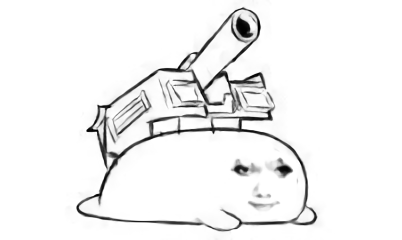dragon: (232, 156, 296, 214)
